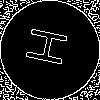H: (25, 25, 78, 70)
